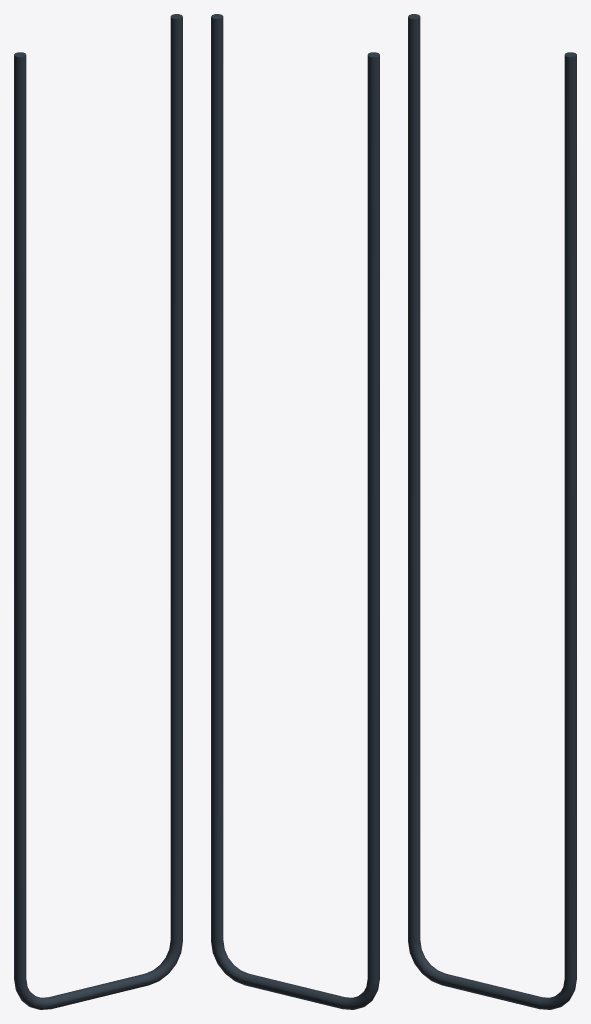
The model's file is original-11.obj.
3 views of the same model, side by side, from view 1: azimuth 30°, elevation 25°; view 2: azimuth 150°, elevation 25°; view 3: azimuth 330°, elevation 25° (orthographic).
Parts seen in each view (by area): view 1: #ID61; view 2: #ID61; view 3: #ID61.
Part boxes in pixels (x1,y1,x2,y2): #ID61: (14, 14, 182, 1009); #ID61: (211, 14, 379, 1009); #ID61: (408, 14, 576, 1009).
Bounding box in the file's own units: 0.1291 × 0.709 × 0.00791.
